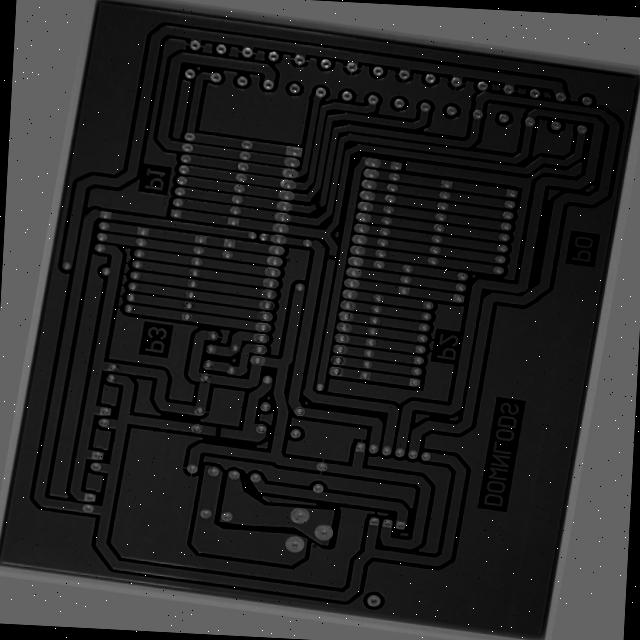open_circuit: (315, 242, 332, 258), (214, 441, 230, 457), (294, 188, 308, 204)
